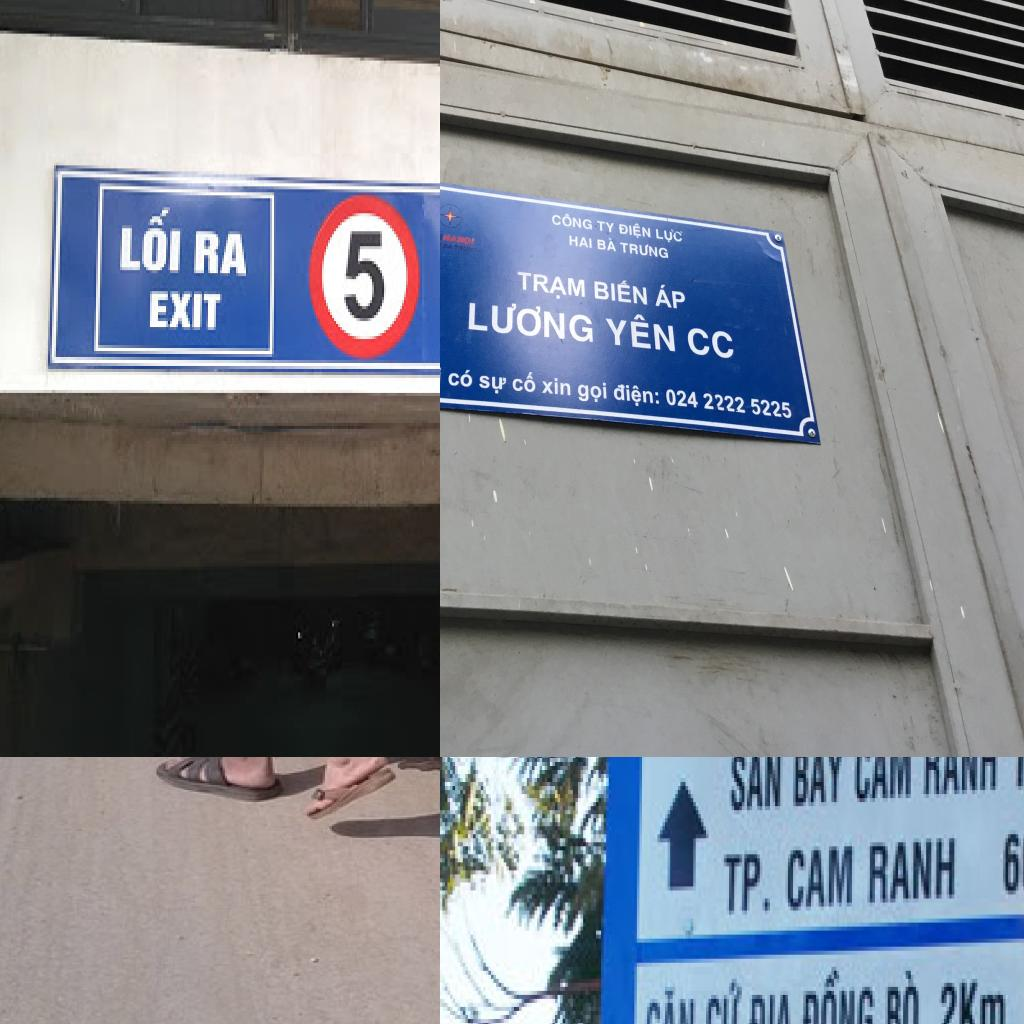text: (865, 834, 959, 911), (466, 295, 595, 348), (780, 842, 860, 915), (800, 962, 877, 1024), (344, 225, 388, 333), (116, 204, 184, 270), (144, 288, 224, 339), (726, 757, 787, 818), (603, 307, 678, 356), (920, 757, 1000, 802), (787, 757, 849, 814), (852, 757, 916, 810), (724, 842, 762, 923), (192, 228, 248, 282), (877, 966, 923, 1024), (959, 974, 1010, 1024), (516, 268, 587, 302), (644, 982, 698, 1024), (700, 974, 744, 1024), (684, 322, 736, 364), (591, 276, 649, 308), (747, 986, 795, 1024), (1002, 826, 1024, 898), (612, 379, 661, 411), (701, 390, 748, 416), (618, 238, 670, 260), (936, 978, 959, 1024), (574, 377, 610, 406), (550, 210, 594, 232), (653, 281, 686, 310), (476, 370, 508, 396), (541, 375, 572, 400), (666, 385, 698, 409), (616, 222, 652, 241), (447, 366, 474, 390), (512, 370, 536, 396), (654, 224, 683, 245), (567, 233, 593, 252), (760, 894, 778, 918), (596, 235, 616, 254), (596, 218, 614, 233), (456, 234, 476, 246), (443, 232, 457, 241), (454, 244, 469, 252), (443, 242, 454, 250), (440, 239, 443, 248)
